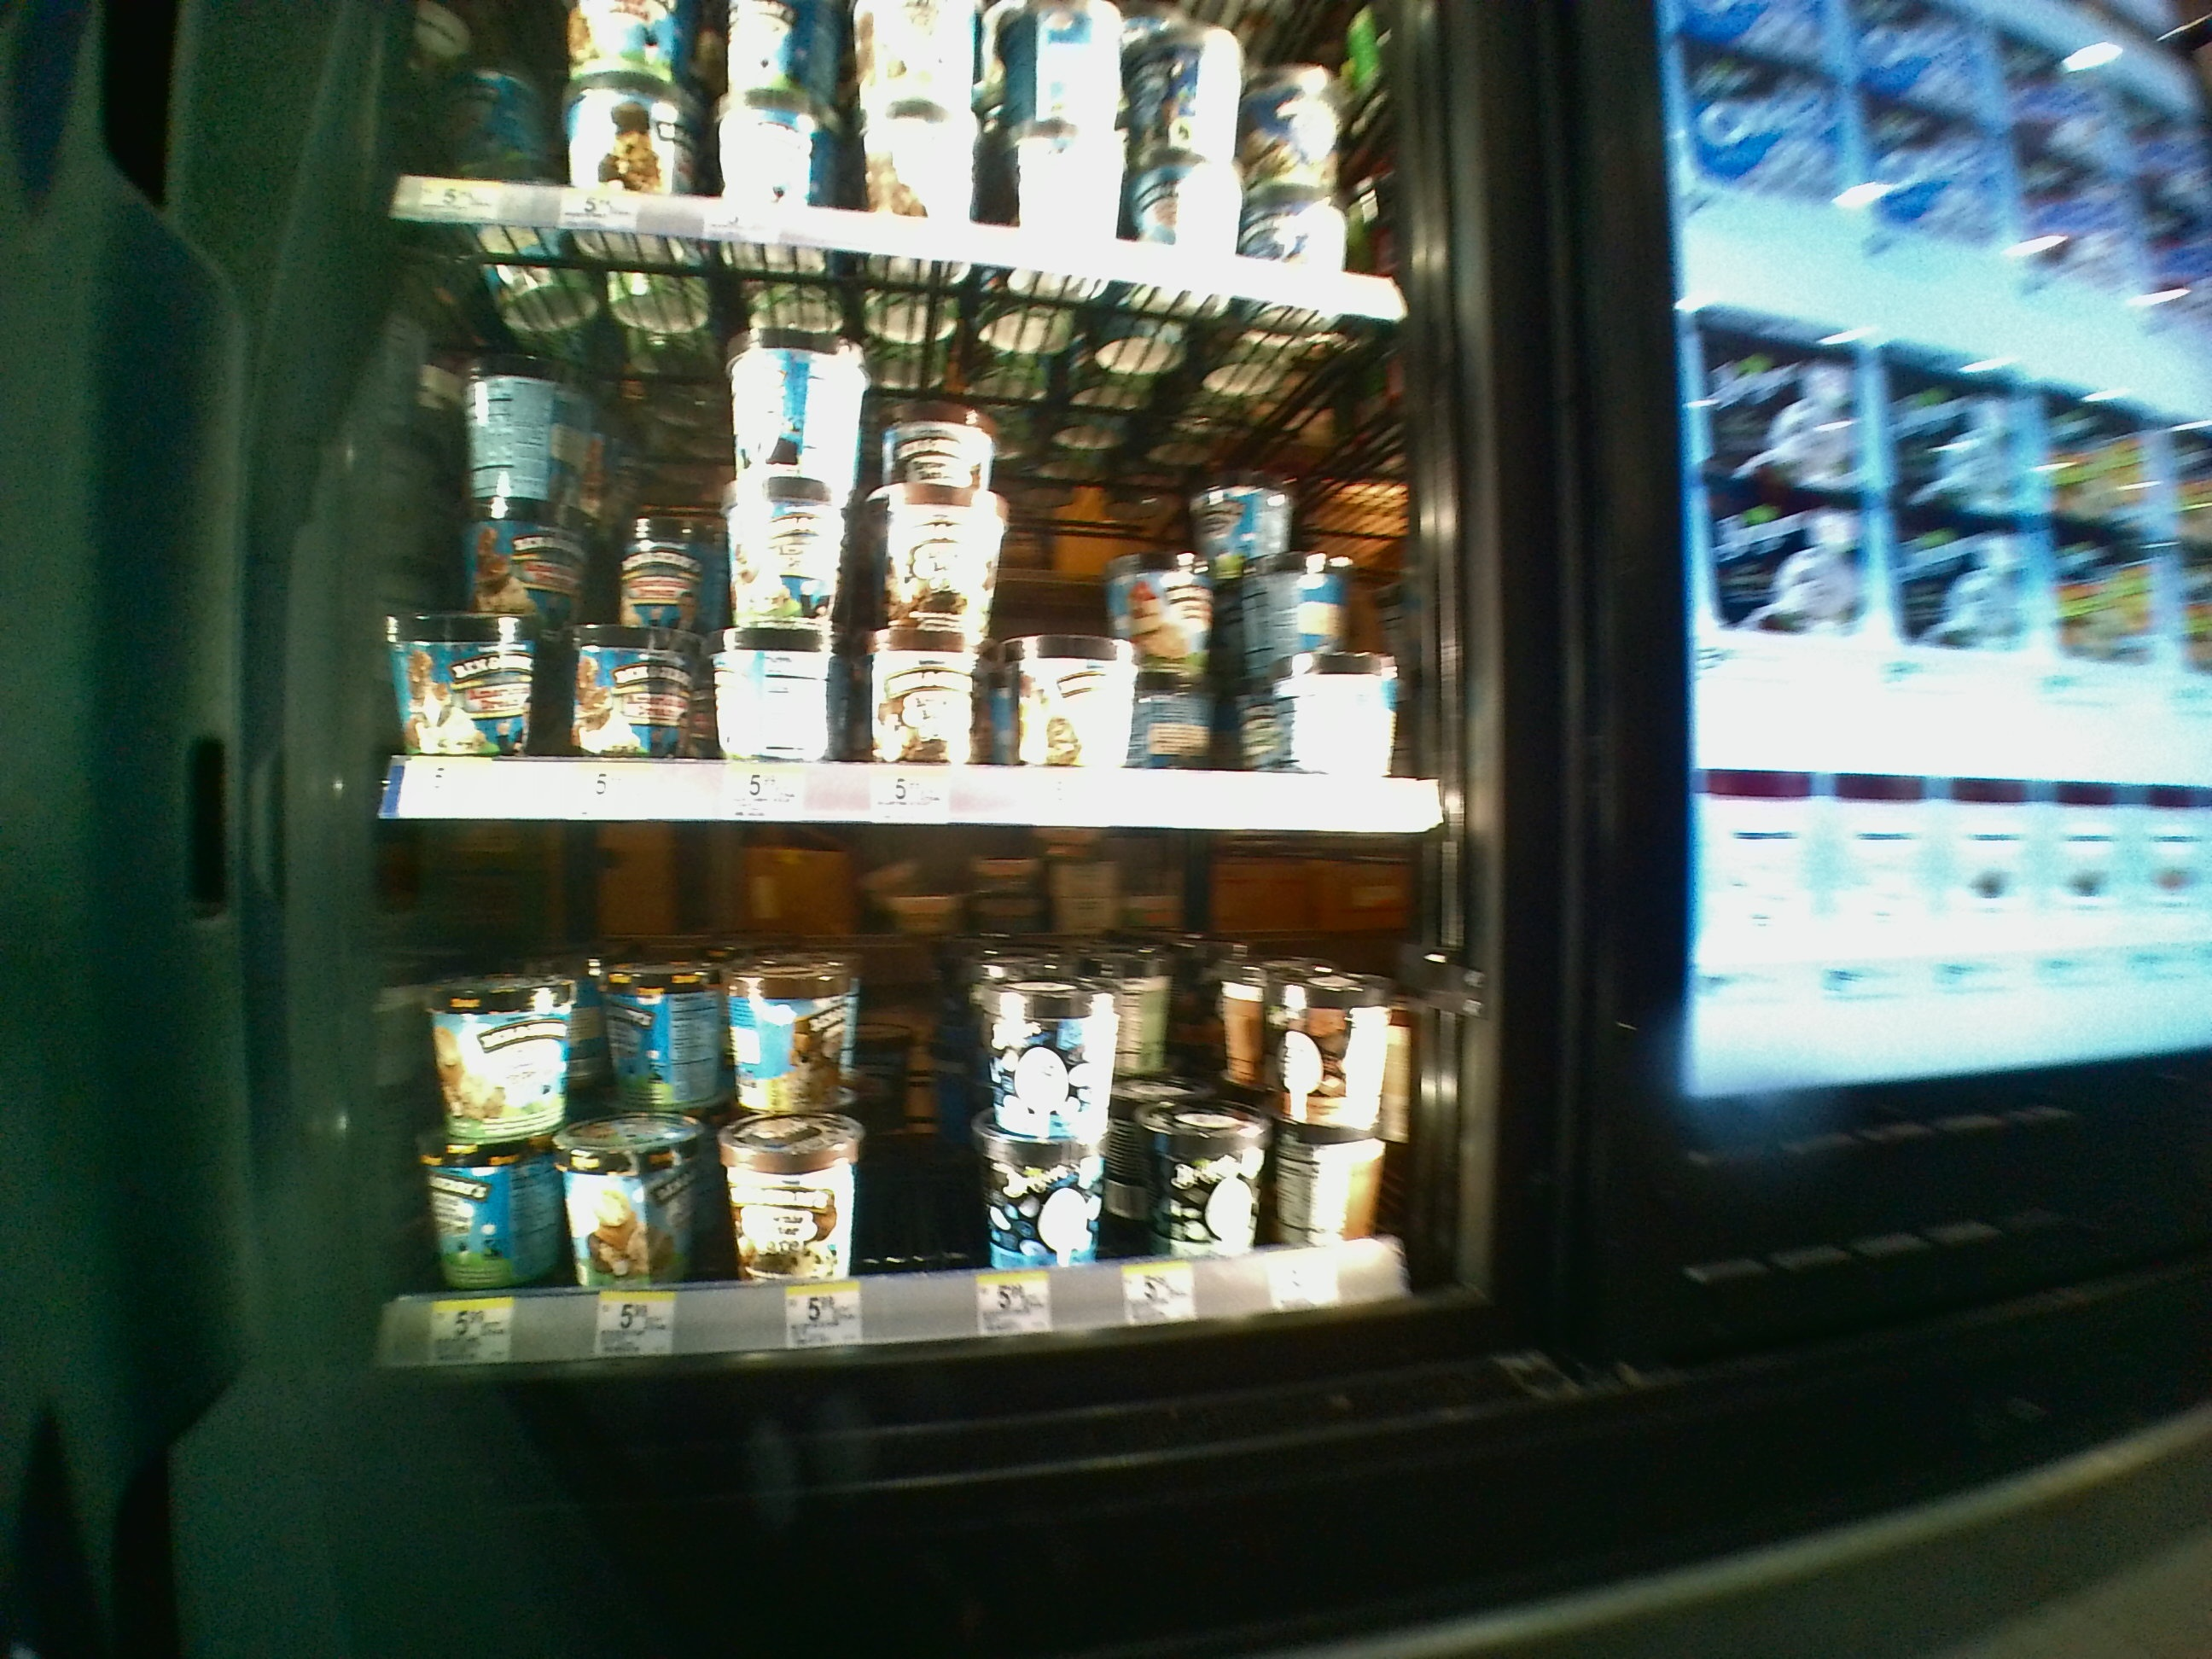shelf: (374, 225, 1433, 823), (366, 829, 1458, 1377)
